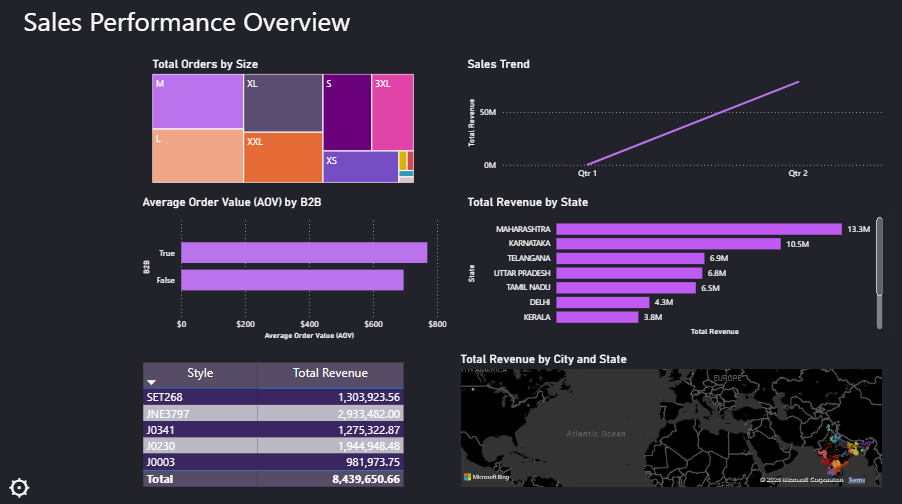

Layout of this report page (visuals, bound fields, positions):
{"tool":"powerbi","page":{"name":"Executive Sales Overview","canvas":[1280,720],"ordinal":0},"visuals":[{"type":"shape","box":[14.2,102,147.4,585.4],"z":0},{"type":"slicer","fields":{"Values":["DateTable.Month Name"]},"box":[15,248,148.8,151.7],"z":1000},{"type":"slicer","fields":{"Values":["data.Fulfillment Method"]},"box":[15,419.5,180,99.2],"z":2000},{"type":"textbox","box":[31.7,188.3,115,41.7],"z":3000},{"type":"map","fields":{"Category":["data.City","data.State"],"Series":["data.State"],"Size":["data.Total Revenue"]},"box":[650.6,462,608,235.3],"z":4000},{"type":"shape","box":[640.6,462,627.9,38.3],"z":5000},{"type":"lineChart","title":"Sales Trend","fields":{"Category":["DateTable.Date.Variation.Date Hierarchy.Year","DateTable.Date.Variation.Date Hierarchy.Quarter","DateTable.Date.Variation.Date Hierarchy.Month","DateTable.Date.Variation.Date Hierarchy.Day"],"Y":["data.Total Revenue"]},"box":[660.5,82.2,598.1,182.8],"z":6000},{"type":"clusteredBarChart","fields":{"Category":["data.B2B"],"Y":["data.Average Order Value (AOV)"]},"box":[199.8,277.8,440.8,209.8],"z":7000},{"type":"treemap","fields":{"Group":["data.Size"],"Values":["data.Total Orders"]},"box":[214,82.2,379.8,182.8],"z":8000},{"type":"clusteredBarChart","fields":{"Category":["data.State"],"Y":["data.Total Revenue"]},"box":[660.5,277.8,598.1,204.1],"z":9000},{"type":"tableEx","fields":{"Values":["data.Style","data.Total Revenue"]},"box":[199.8,510.2,408.2,198.4],"z":10000},{"type":"textbox","box":[31.2,0,640.6,73.7],"z":11000},{"type":"actionButton","title":"close filter","box":[88.3,113.3,100,40],"z":13500}]}

Visuals, with their boxes in screenshot pixels (x1, y1, x2, y2), scaled from the page's 1280x720 canvas onto the 902x504 screenshot:
shape: 10:71:114:481
slicer - DateTable.Month Name: 11:174:115:280
slicer - data.Fulfillment Method: 11:294:137:363
textbox: 22:132:103:161
map - data.City x data.State: 458:323:887:488
shape: 451:323:894:350
"Sales Trend" lineChart: 465:58:887:186
clusteredBarChart - data.B2B x data.Average Order Value (AOV): 141:194:451:341
treemap - data.Size x data.Total Orders: 151:58:418:186
clusteredBarChart - data.State x data.Total Revenue: 465:194:887:337
tableEx - data.Style x data.Total Revenue: 141:357:428:496
textbox: 22:0:473:52
"close filter" actionButton: 62:79:133:107
